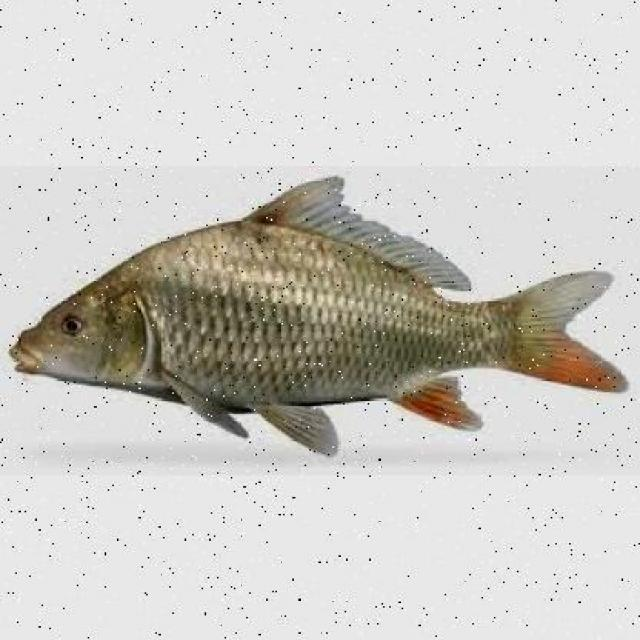ikan-mas: (9, 174, 625, 450)
